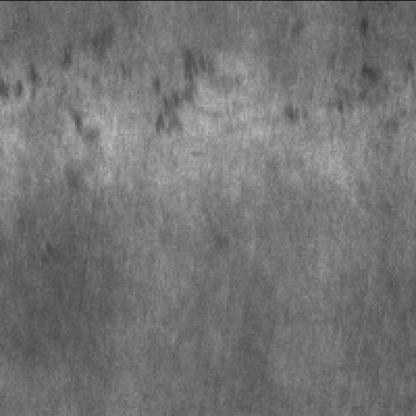rolled-in_scale: (2, 31, 218, 148), (283, 25, 397, 131)
